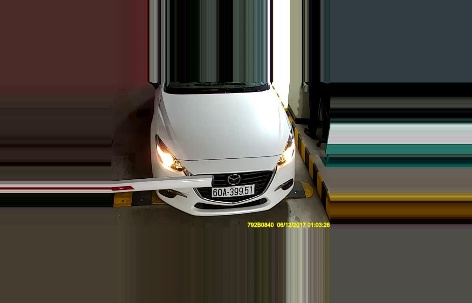plate: (209, 183, 256, 198)
